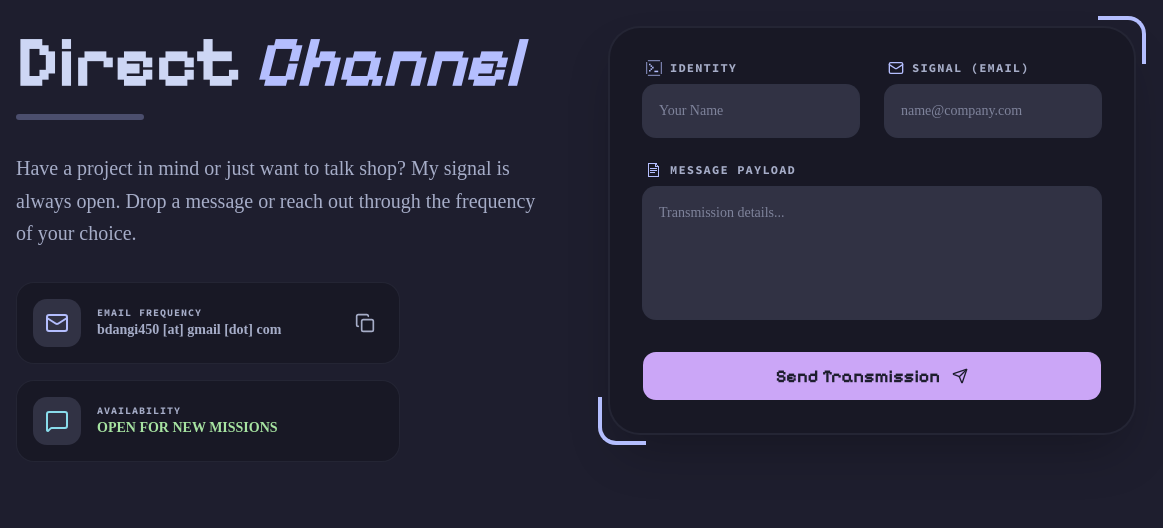
ContactSection Component › handles submission errors
The image size is (1163, 528).
Type "John Doe" into the field labelled "Identity" at point(751, 111), box top-left (642, 84), bottom-right (860, 138)
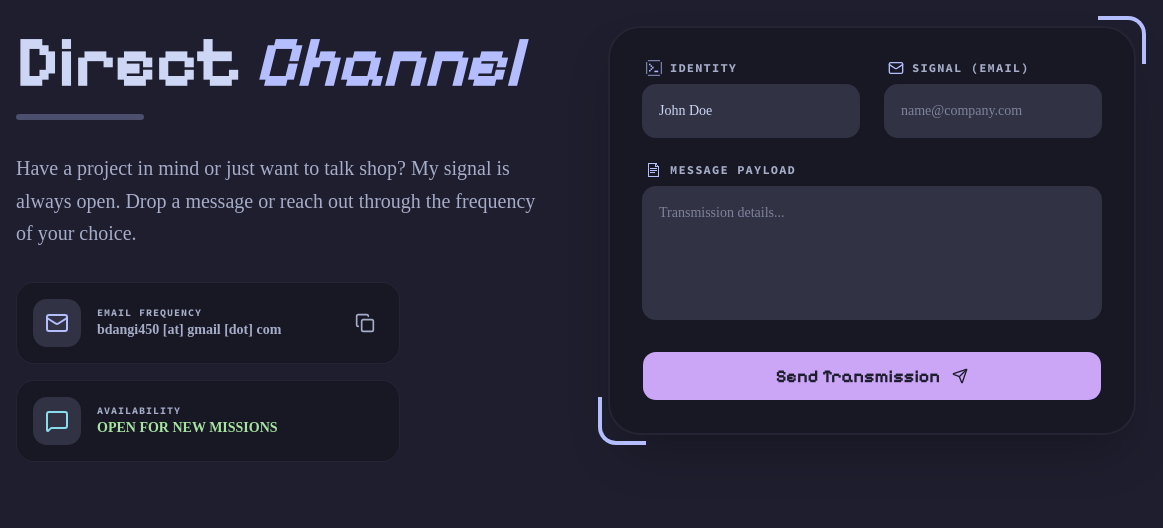
Type "john@example.com" into the field labelled "Signal (Email)" at point(993, 111), box top-left (884, 84), bottom-right (1102, 138)
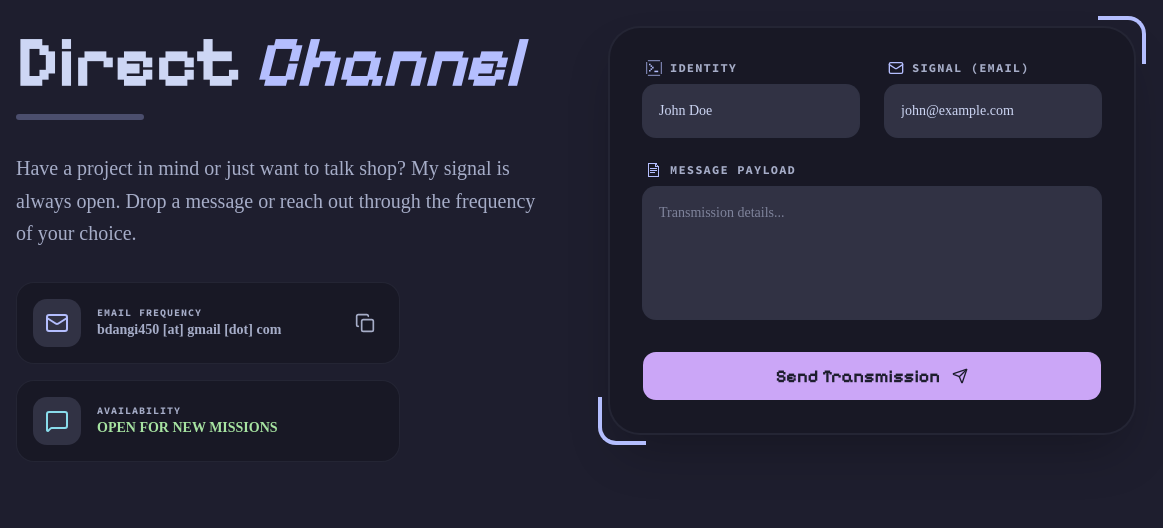
Type "This is a long enough message." into the text box labelled "Message Payload" at point(872, 253), box top-left (642, 186), bottom-right (1102, 320)
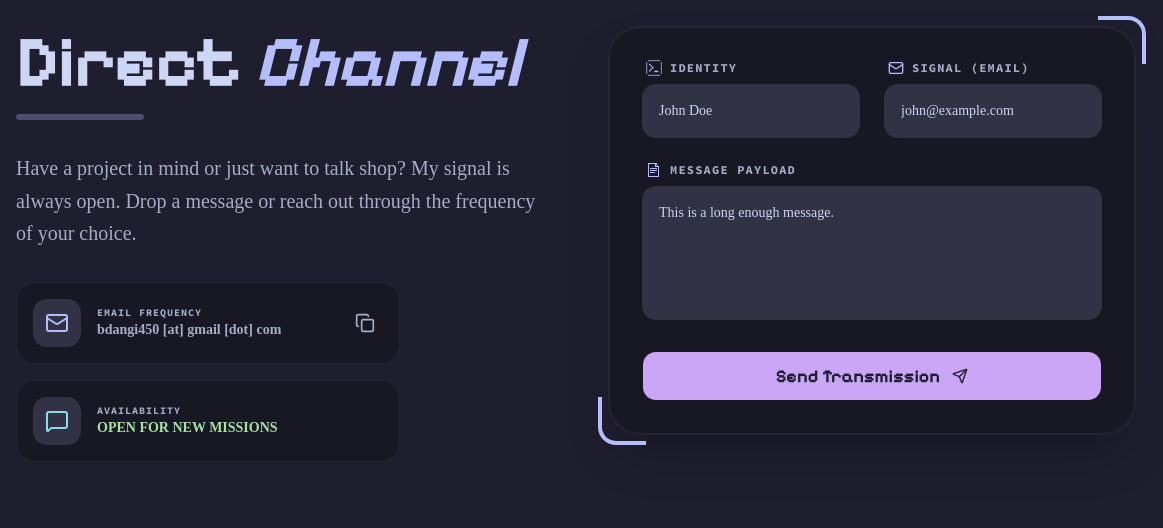
Click the button "Send Transmission" at point(872, 376), box top-left (642, 351), bottom-right (1102, 401)
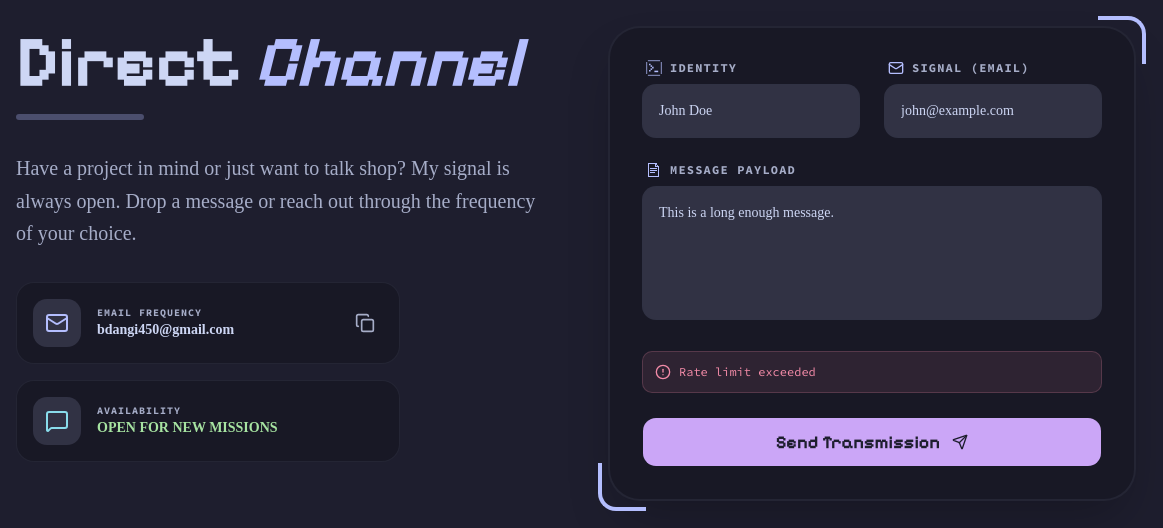
Expected: the text "Rate limit exceeded" is shown, top-left (679, 364), bottom-right (816, 380)
